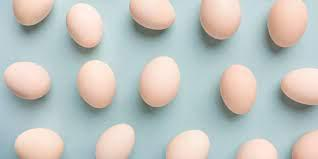egg: (217, 60, 258, 118), (76, 57, 116, 113), (138, 54, 180, 107), (268, 0, 312, 48), (198, 0, 245, 43), (1, 60, 49, 102), (66, 0, 106, 49), (128, 0, 180, 32), (278, 66, 318, 106), (14, 128, 63, 159), (95, 122, 136, 159), (165, 125, 211, 156), (235, 131, 279, 159), (13, 0, 58, 26)
